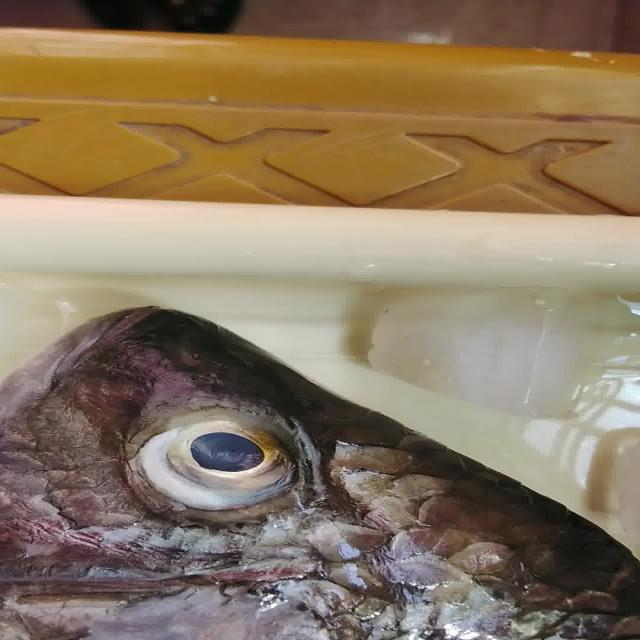Fresh: (119, 410, 335, 527)
